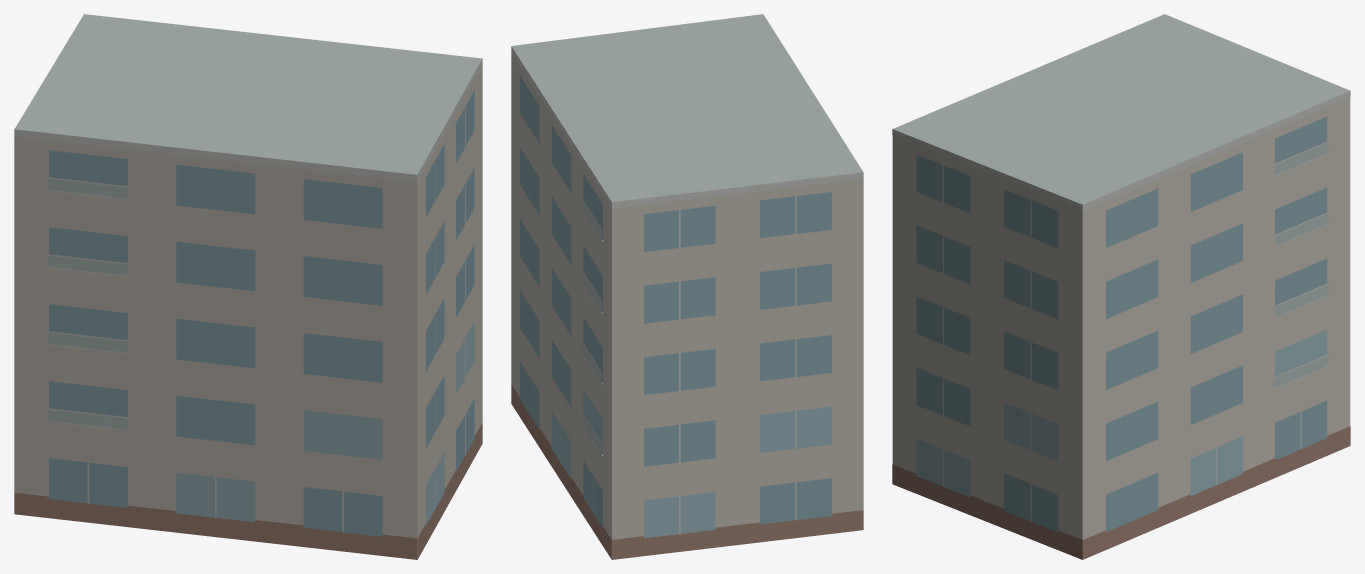
File: survey-upis-32909330.glb
3 views of the same model, side by side, from view 1: azimuth 30°, elevation 25°; view 2: azimuth 150°, elevation 25°; view 3: azimuth 270°, elevation 25° (orthographic). The views are drawn at different scales.
Visible parts, largest first — view 1: survey-upis-32909330.tmp; view 2: survey-upis-32909330.tmp; view 3: survey-upis-32909330.tmp.
Boxes of the visible parts, bbox=[...] form: survey-upis-32909330.tmp: bbox=[14, 14, 482, 559]; survey-upis-32909330.tmp: bbox=[511, 14, 863, 559]; survey-upis-32909330.tmp: bbox=[892, 14, 1350, 559].
Bounding box in the file's own units: 15.67 × 13.6 × 15.9.
